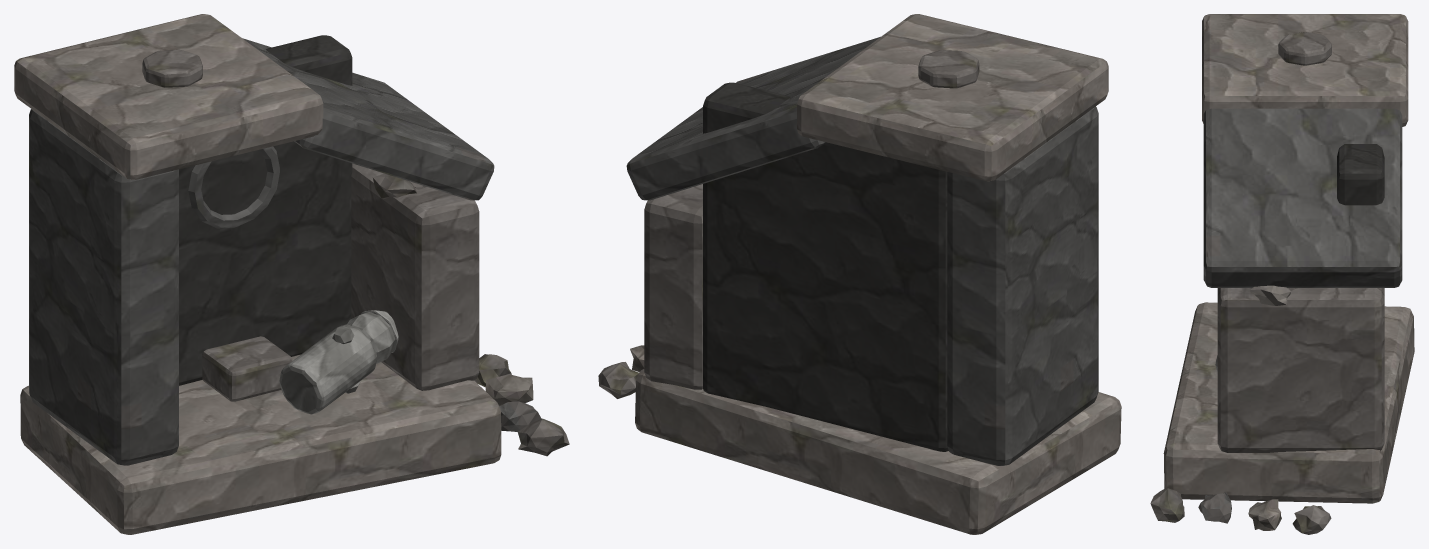
Rendered from shrine_broken.glb.
3 views of the same model, side by side, from view 1: azimuth 30°, elevation 25°; view 2: azimuth 150°, elevation 25°; view 3: azimuth 270°, elevation 25° (orthographic). The views are drawn at different scales.
Visible parts, largest first — view 1: model; view 2: model; view 3: model.
Part boxes in pixels (<box>): model: <box>14,14,569,534</box>; model: <box>598,14,1121,534</box>; model: <box>1150,14,1414,534</box>.
Size of the model in its own units: 1.14 by 0.985 by 0.6652.
Materials: 6 (6 with a texture image).
